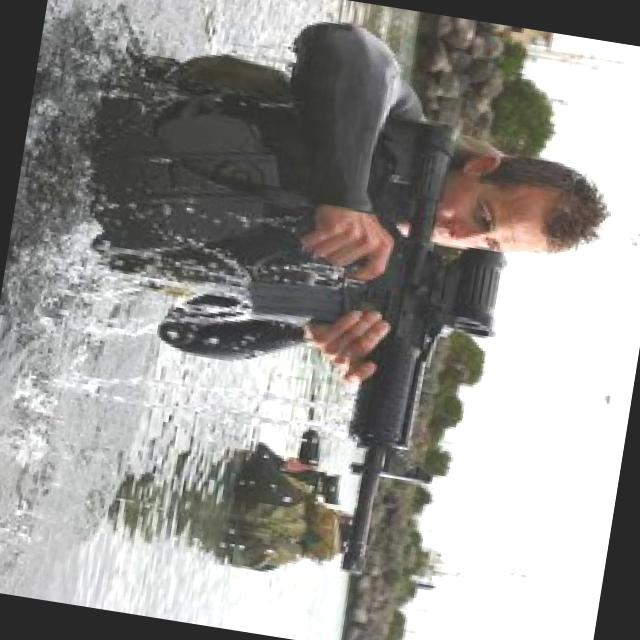long weapon: (196, 80, 524, 584)
